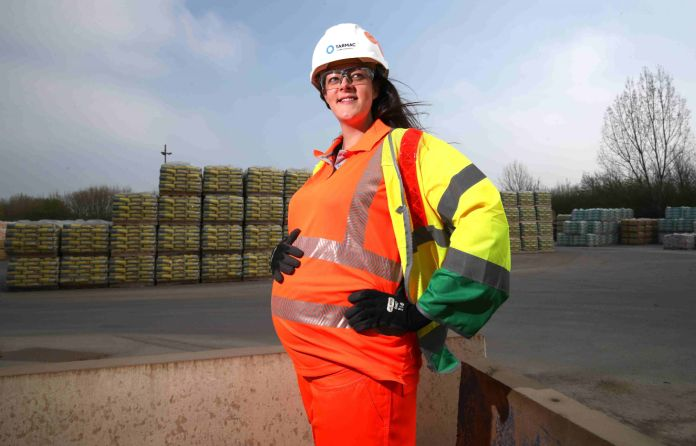Hard Hat: (305, 24, 403, 70)
High Viz: (387, 126, 503, 296)
